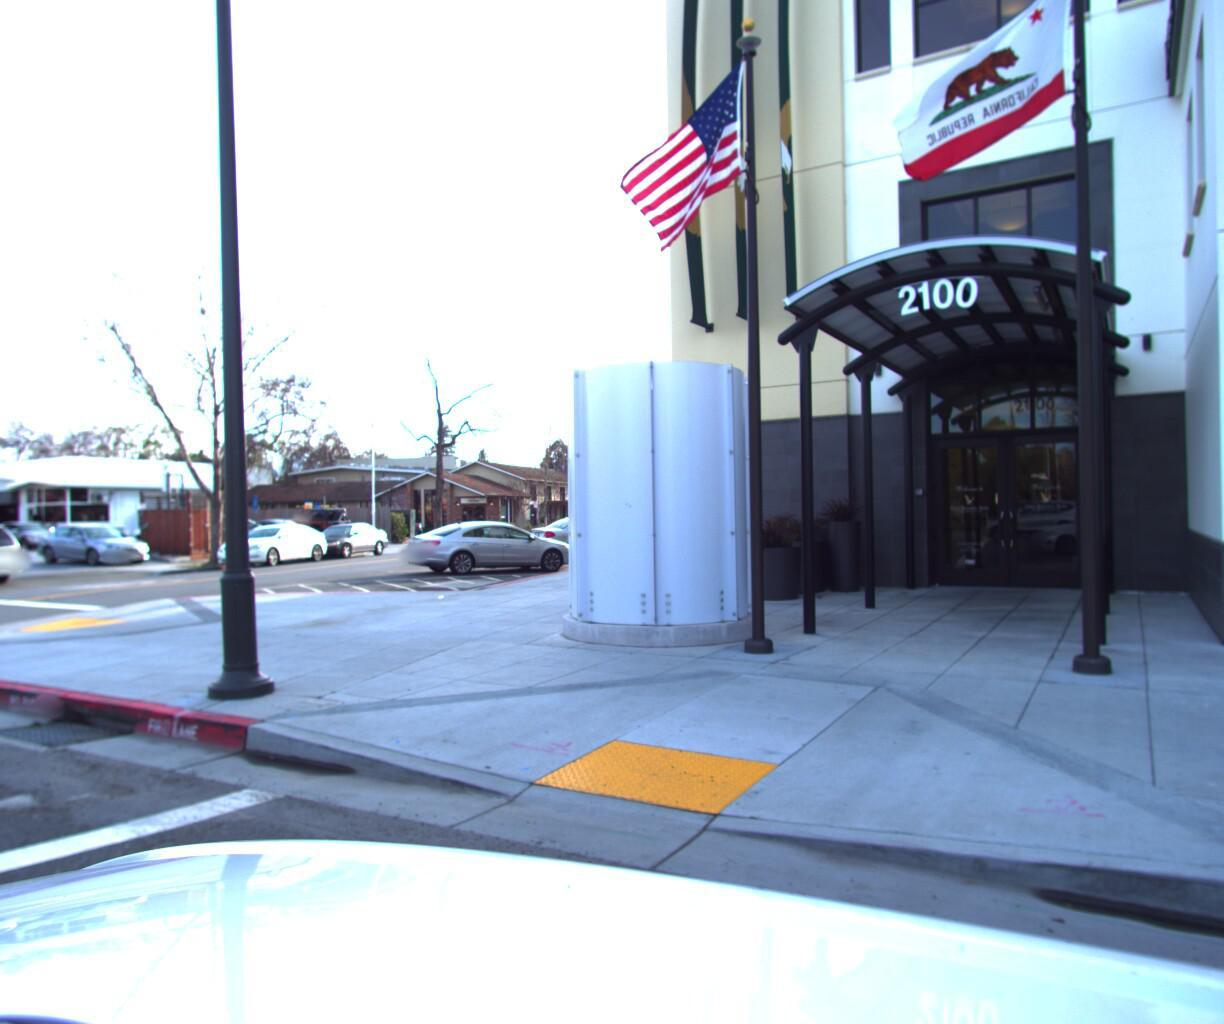car: (0, 518, 36, 589)
